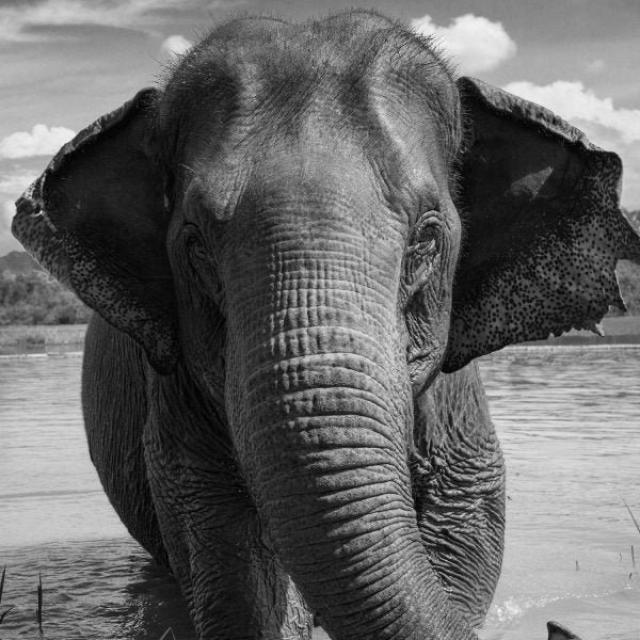Elephant: (10, 6, 639, 639)
